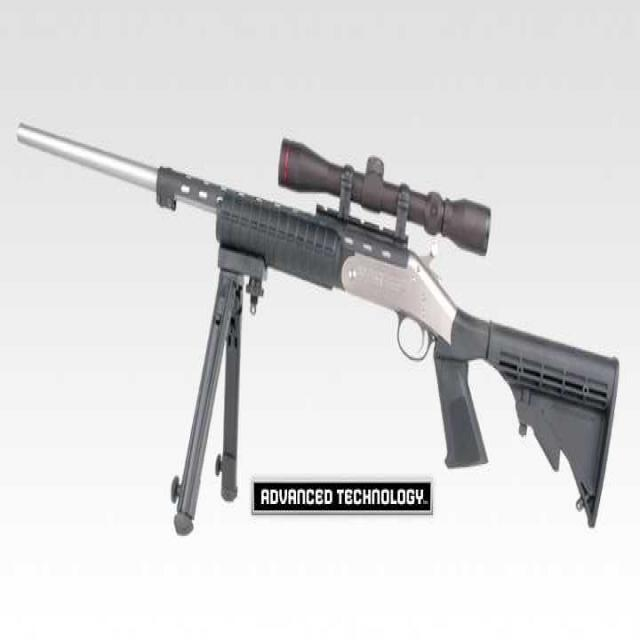weapon: (9, 58, 628, 548)
